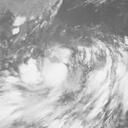cyclone: (11, 37, 111, 121)
